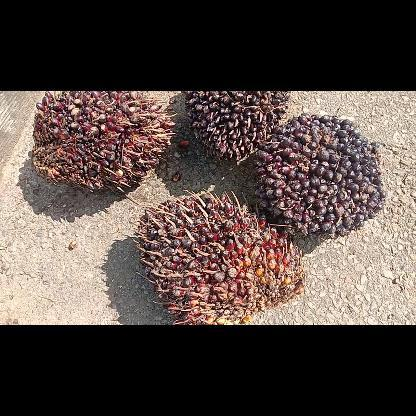TBS mentah: (134, 188, 304, 324), (255, 112, 386, 242), (32, 91, 176, 193), (182, 91, 288, 165)
